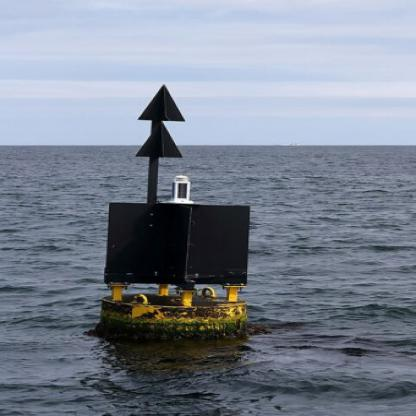buoy: (82, 78, 258, 338)
